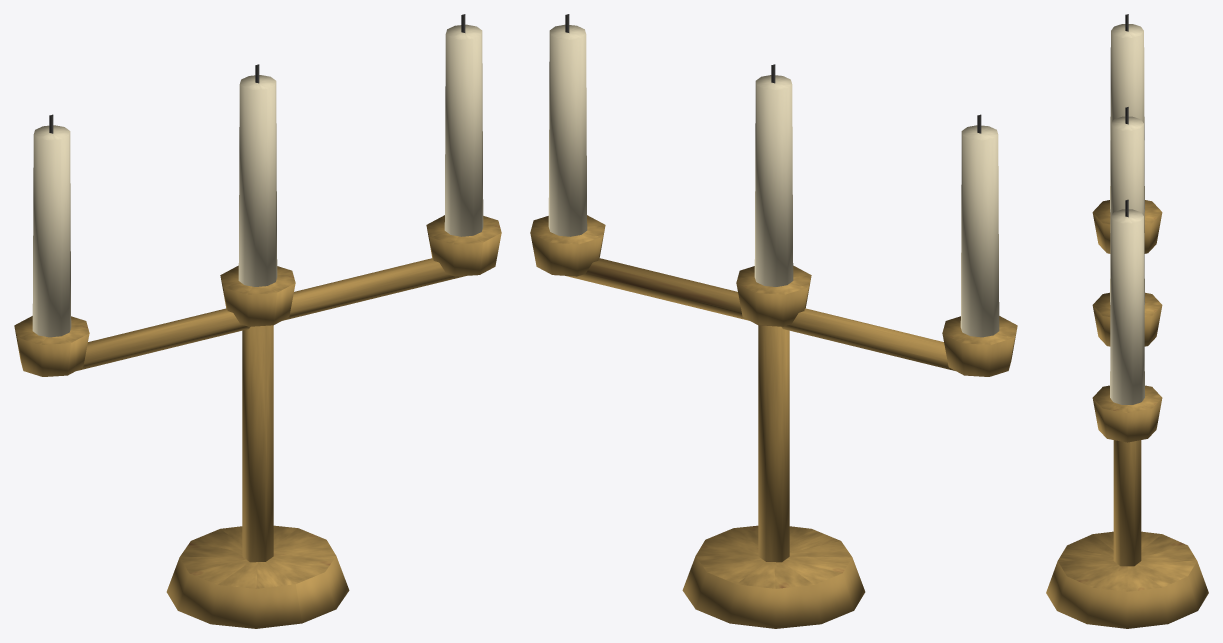
The model's file is CandleStick_Triple.gltf.
The picture shows the model from 3 angles, left to right: view 1: azimuth 30°, elevation 25°; view 2: azimuth 150°, elevation 25°; view 3: azimuth 270°, elevation 25°; orthographic projection. The views are drawn at different scales.
Visible parts, largest first — view 1: CandleStick_Triple; view 2: CandleStick_Triple; view 3: CandleStick_Triple.
Boxes of the visible parts, x1,y1,x2,y2 form: CandleStick_Triple: [14, 14, 501, 628]; CandleStick_Triple: [530, 14, 1017, 628]; CandleStick_Triple: [1046, 14, 1208, 628].
Bounding box in the file's own units: 0.44 × 0.46 × 0.14.
Materials: 3 (3 with a texture image).
